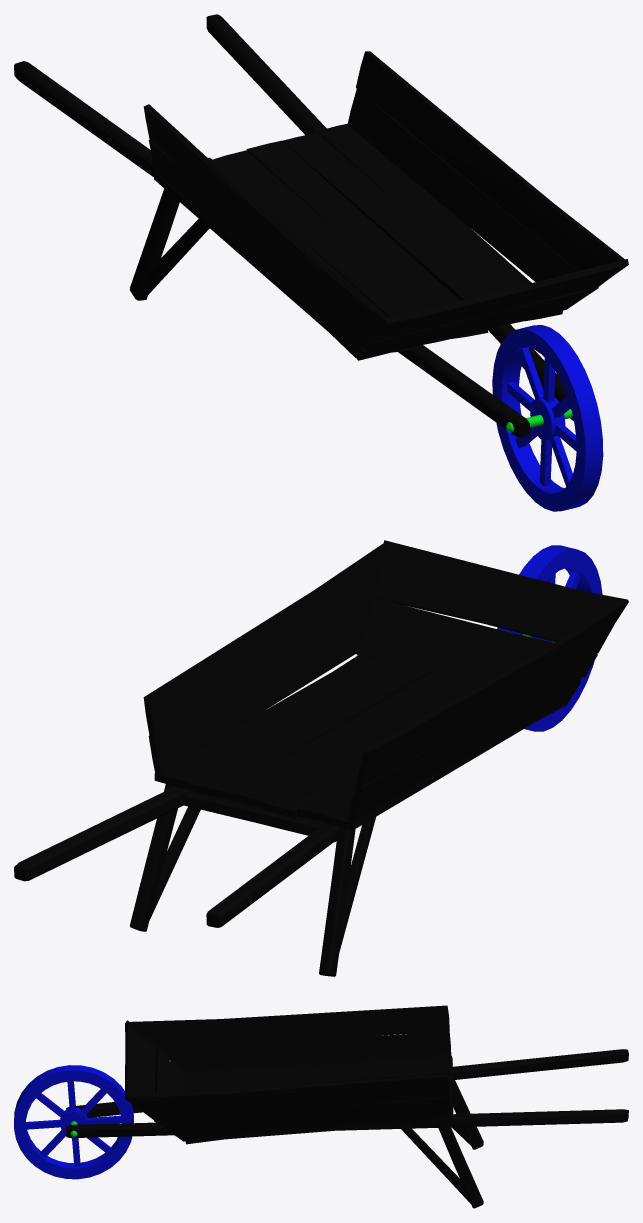
The model's file is WheelBarrow01.fbx.
3 views of the same model, one above another, from view 1: azimuth 30°, elevation 25°; view 2: azimuth 150°, elevation 25°; view 3: azimuth 270°, elevation 25° (orthographic). The views are drawn at different scales.
Parts seen in each view (by area): view 1: barrow; view 2: barrow; view 3: barrow.
Part boxes in pixels (box(x1,y1,x2,y2)): barrow: box(14, 14, 628, 511); barrow: box(14, 540, 628, 976); barrow: box(14, 1005, 628, 1208).
Bounding box in the file's own units: 90.17 × 76.02 × 307.
